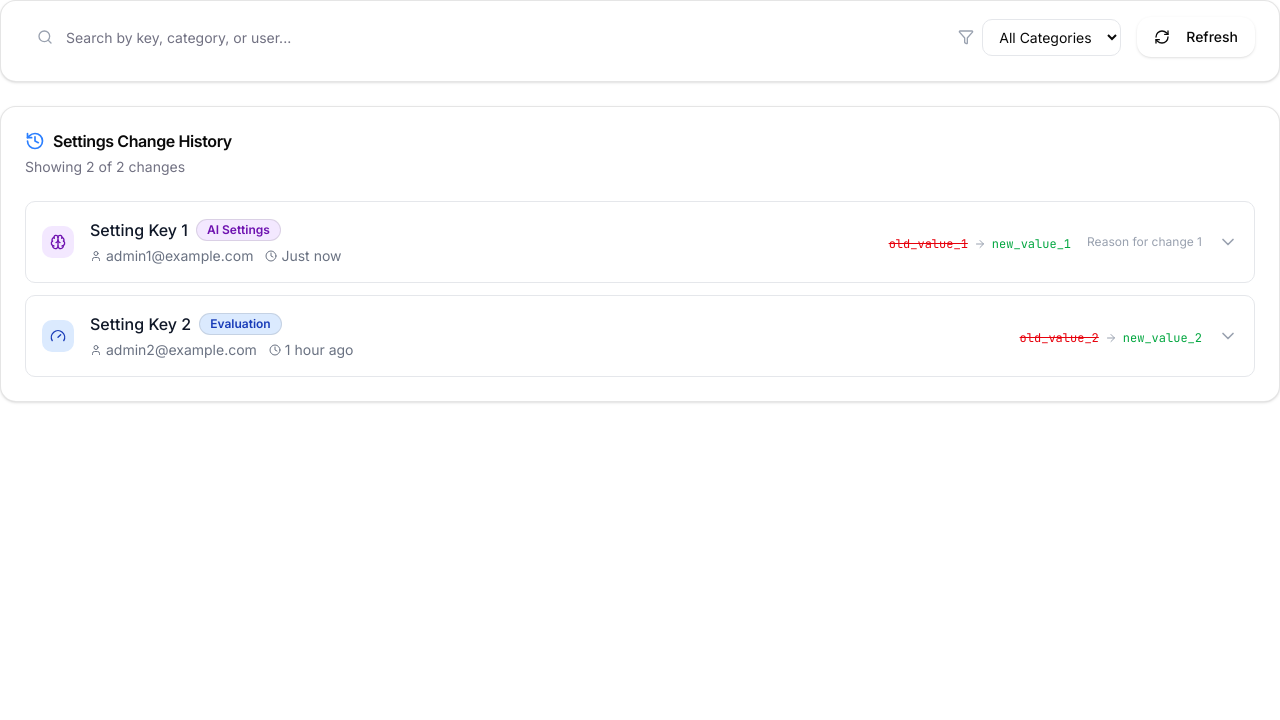
SettingsHistoryPanel › Expandable Details › should expand entry when clicked
The width and height of the screenshot is (1280, 720).
Expected: the text "admin1@example.com" is shown, [90,246,254,266]
Step 1. Click the button that starts with "Setting Key 1" → (58, 242), box [42,219,1238,264]
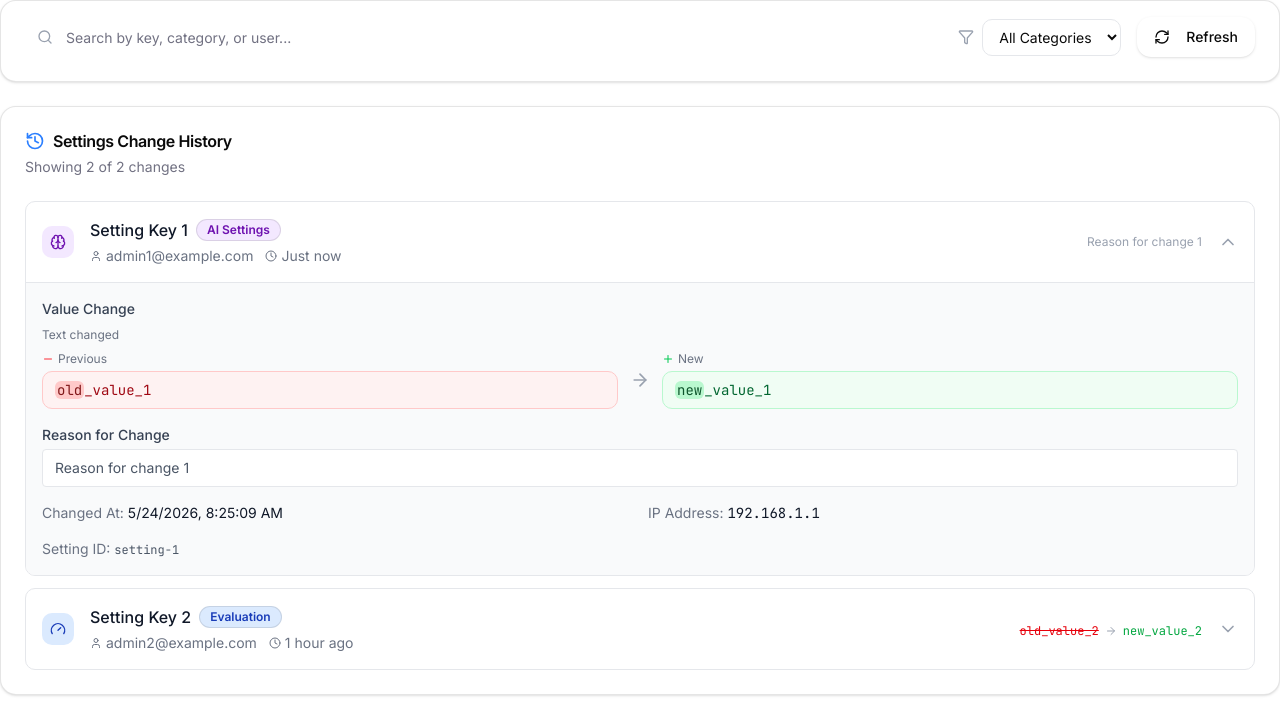
Expected: the text "old" is shown, [55,381,84,399]
Expected: the heading "Value Change" is shown, [42,300,135,317]
Expected: the text "new" is shown, [675,381,704,399]
